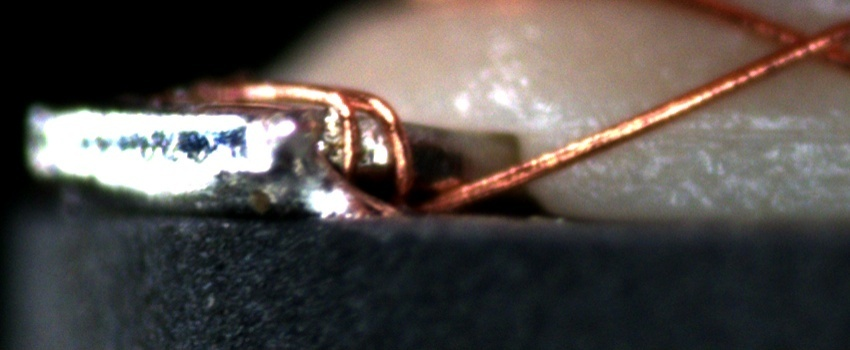CL: (755, 15, 842, 74)
DL: (580, 101, 850, 162)
TE: (190, 76, 421, 204)
